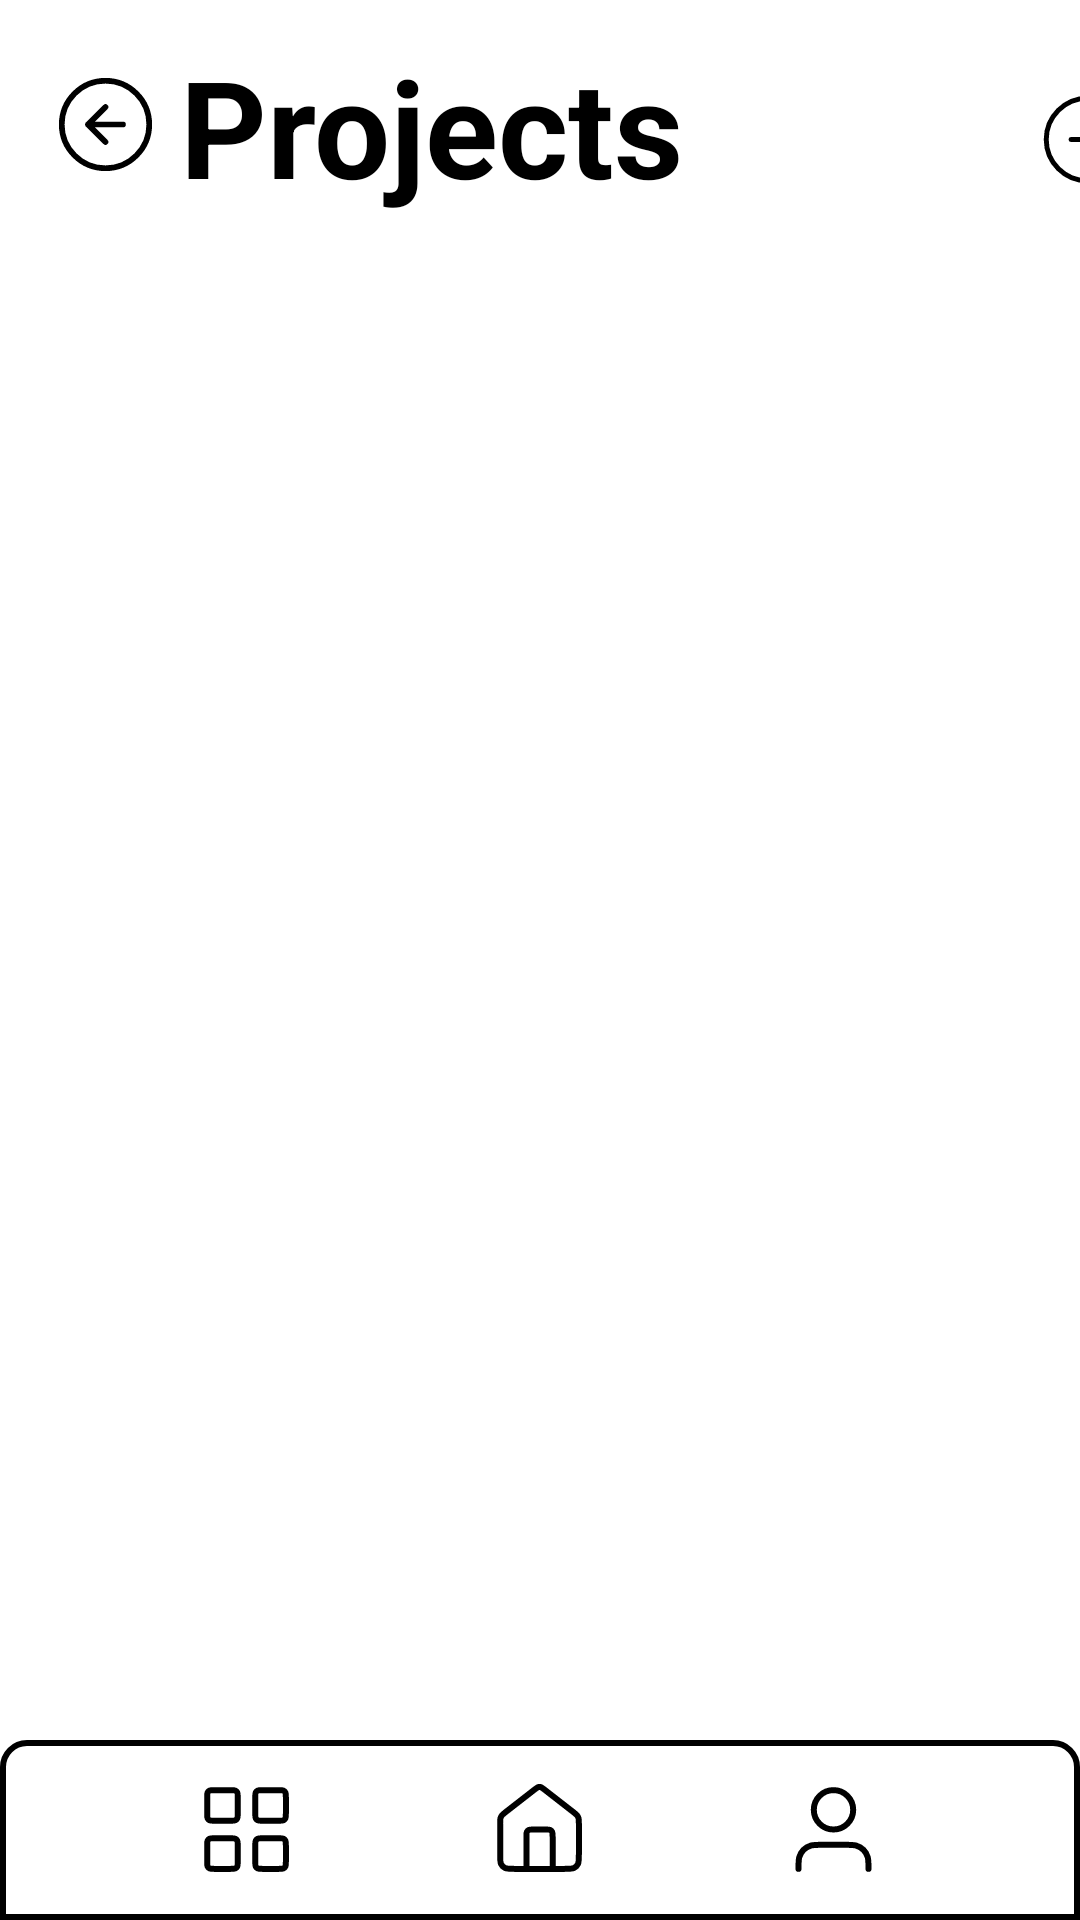

Screen size 1080w x 1920h. Icon name, then its center in pixels as (x,y):
backbutton: (105,124)
grid: (246,1829)
home: (539,1828)
user: (833,1829)
